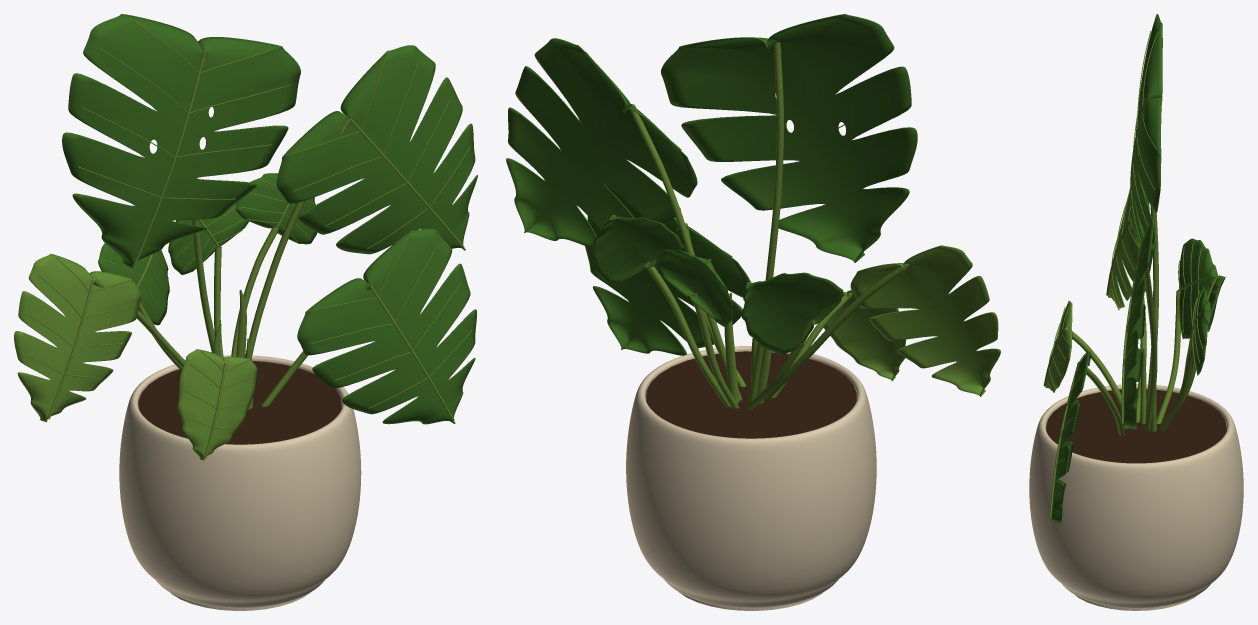
File: potted-plant-agentic-0002.glb
3 views of the same model, side by side, from view 1: azimuth 30°, elevation 25°; view 2: azimuth 150°, elevation 25°; view 3: azimuth 270°, elevation 25° (orthographic). The views are drawn at different scales.
Visible parts, largest first — view 1: Hollow rounded ceramic planter_export, Tall mature leaf_export, Upper right leaf_export, Lower right leaf_export, Left spreading leaf_export, Soil within pot_export, Small front leaf_export, Back right young leaf_export, Left side young leaf_export, Back center young leaf_export, Upper right leaf petiole_export, Tall mature leaf petiole_export (+3 smaller); view 2: Hollow rounded ceramic planter_export, Tall mature leaf_export, Upper right leaf_export, Left spreading leaf_export, Soil within pot_export, Lower right leaf_export, Left side young leaf_export, Back right young leaf_export, Small front leaf_export, Back center young leaf_export, Tall mature leaf petiole_export, Upper right leaf petiole_export (+5 smaller); view 3: Hollow rounded ceramic planter_export, Soil within pot_export, Tall mature leaf_export, Upper right leaf_export, Left side young leaf_export, Lower right leaf_export, Left spreading leaf_export, Small front leaf_export, Upper right leaf petiole_export, Back right young leaf_export, Tall mature leaf petiole_export, Left side young leaf petiole_export (+10 smaller).
Boxes of the visible parts, left/top/right/bottom form: Hollow rounded ceramic planter_export: left=119, top=355, right=361, bottom=608; Tall mature leaf_export: left=62, top=14, right=300, bottom=268; Upper right leaf_export: left=276, top=45, right=477, bottom=254; Lower right leaf_export: left=297, top=228, right=476, bottom=424; Left spreading leaf_export: left=14, top=253, right=141, bottom=422; Soil within pot_export: left=138, top=361, right=341, bottom=444; Small front leaf_export: left=178, top=349, right=257, bottom=460; Back right young leaf_export: left=235, top=173, right=317, bottom=244; Left side young leaf_export: left=98, top=243, right=169, bottom=325; Back center young leaf_export: left=168, top=203, right=248, bottom=274; Upper right leaf petiole_export: left=245, top=117, right=351, bottom=357; Tall mature leaf petiole_export: left=192, top=52, right=215, bottom=352; Hollow rounded ceramic planter_export: left=626, top=346, right=876, bottom=607; Tall mature leaf_export: left=661, top=14, right=917, bottom=262; Upper right leaf_export: left=506, top=38, right=697, bottom=248; Left spreading leaf_export: left=850, top=245, right=1000, bottom=396; Soil within pot_export: left=646, top=351, right=856, bottom=438; Lower right leaf_export: left=585, top=184, right=750, bottom=355; Left side young leaf_export: left=741, top=272, right=843, bottom=354; Back right young leaf_export: left=590, top=215, right=683, bottom=282; Small front leaf_export: left=823, top=290, right=906, bottom=380; Back center young leaf_export: left=655, top=250, right=732, bottom=325; Tall mature leaf petiole_export: left=748, top=42, right=784, bottom=403; Upper right leaf petiole_export: left=630, top=104, right=742, bottom=400; Hollow rounded ceramic planter_export: left=1029, top=384, right=1243, bottom=608; Soil within pot_export: left=1046, top=388, right=1226, bottom=463; Tall mature leaf_export: left=1132, top=14, right=1162, bottom=246; Upper right leaf_export: left=1123, top=223, right=1155, bottom=429; Left side young leaf_export: left=1179, top=238, right=1217, bottom=338; Lower right leaf_export: left=1051, top=351, right=1091, bottom=523; Left spreading leaf_export: left=1108, top=191, right=1140, bottom=309; Small front leaf_export: left=1045, top=301, right=1072, bottom=392; Upper right leaf petiole_export: left=1139, top=247, right=1157, bottom=430; Back right young leaf_export: left=1193, top=286, right=1211, bottom=375; Tall mature leaf petiole_export: left=1143, top=98, right=1158, bottom=423; Left side young leaf petiole_export: left=1157, top=291, right=1180, bottom=423.
Bounding box in the file's own units: 1.69 × 1.99 × 0.7536.
